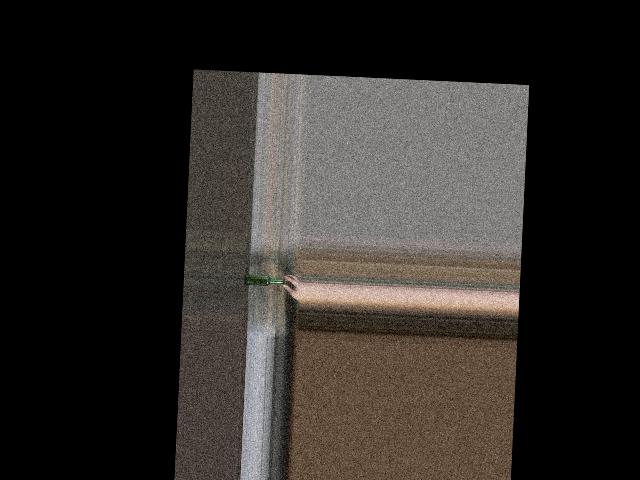beer: (244, 274, 285, 286)
